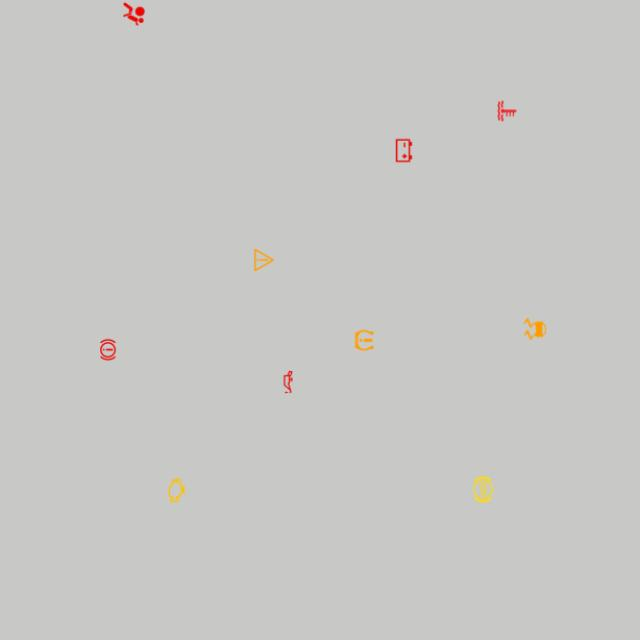Anti Lock Braking System: (469, 476, 497, 504)
Braking System Issue: (94, 336, 122, 364)
Charging System Issue: (390, 136, 418, 164)
Check Engine: (162, 476, 190, 504)
Electronic Stability Problem -ESP-: (521, 315, 549, 343)
Engine Overheating Warning Light: (493, 97, 521, 125)
Low Engine Oil Warning Light: (274, 368, 302, 396)
Low Tire Pressure Warning Light: (351, 326, 378, 354)
Master warning light: (250, 246, 278, 274)
SRS-Airbag: (120, 0, 148, 28)
